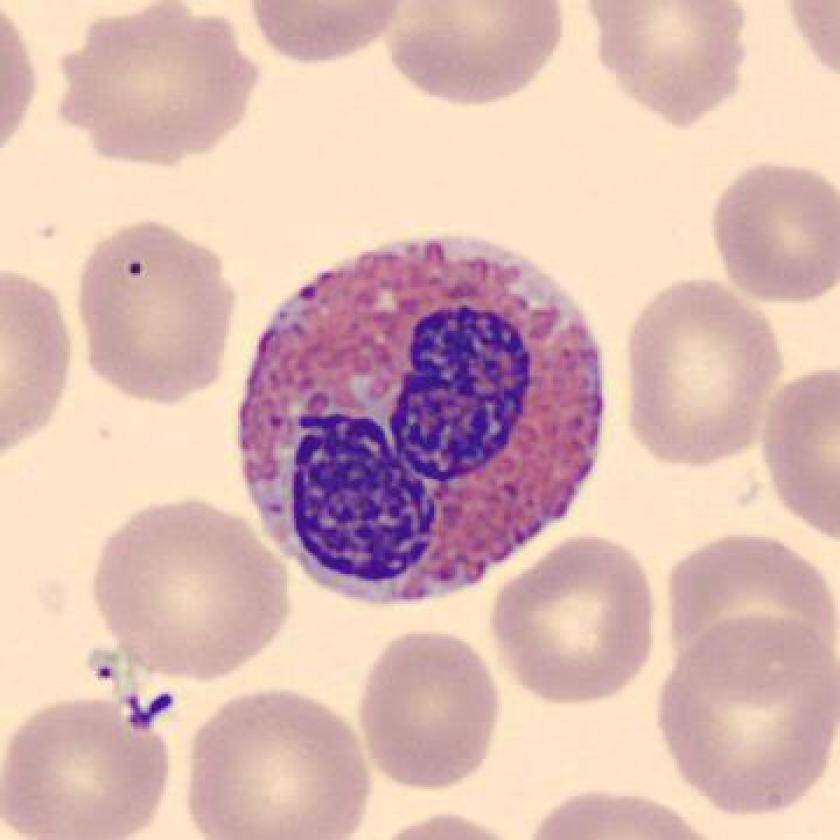eosinophil: (223, 223, 617, 617)
